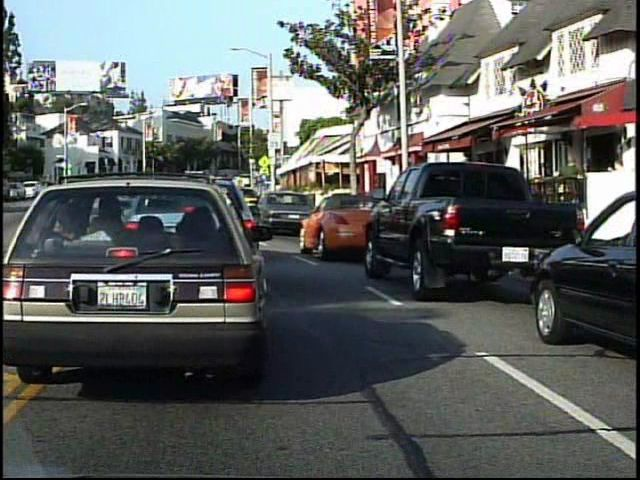person: (557, 150, 588, 225)
